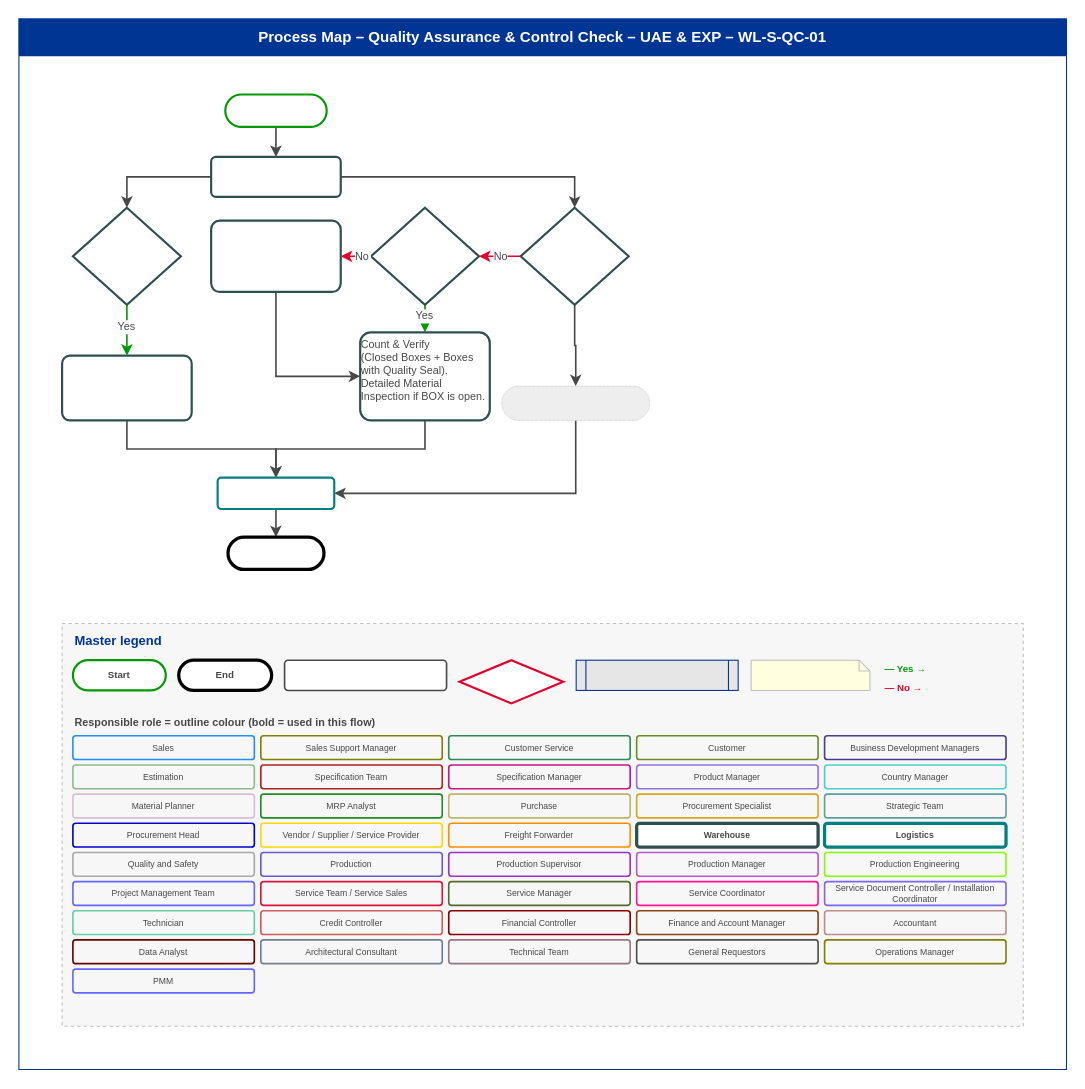
This 1085x1089 diagram has some shape labels left out. Each missing label, with the centre of its shape:
2Q CHECK: point (275, 110)
2Q Results: point (275, 493)
Activity (outline = role): point (365, 675)
Complete Shipment/ Packaging to be inspected for damage and missing: point (126, 387)
Decision: point (511, 681)
Fragile ?: point (574, 255)
FRAGILE HANDLING Ref S#: WL-S-FH-02: point (575, 402)
From trusted Supplier / WH Stock Picked: point (424, 255)
Linked process (Ref ID): point (656, 674)
Material from Return Order: point (126, 255)
Note / checklist: point (810, 674)
Open box inspection for Random 10-20% of the Materials. Full Shipment Count: point (275, 255)
Request for 2Q Check: point (275, 176)
RETURN: point (275, 553)
